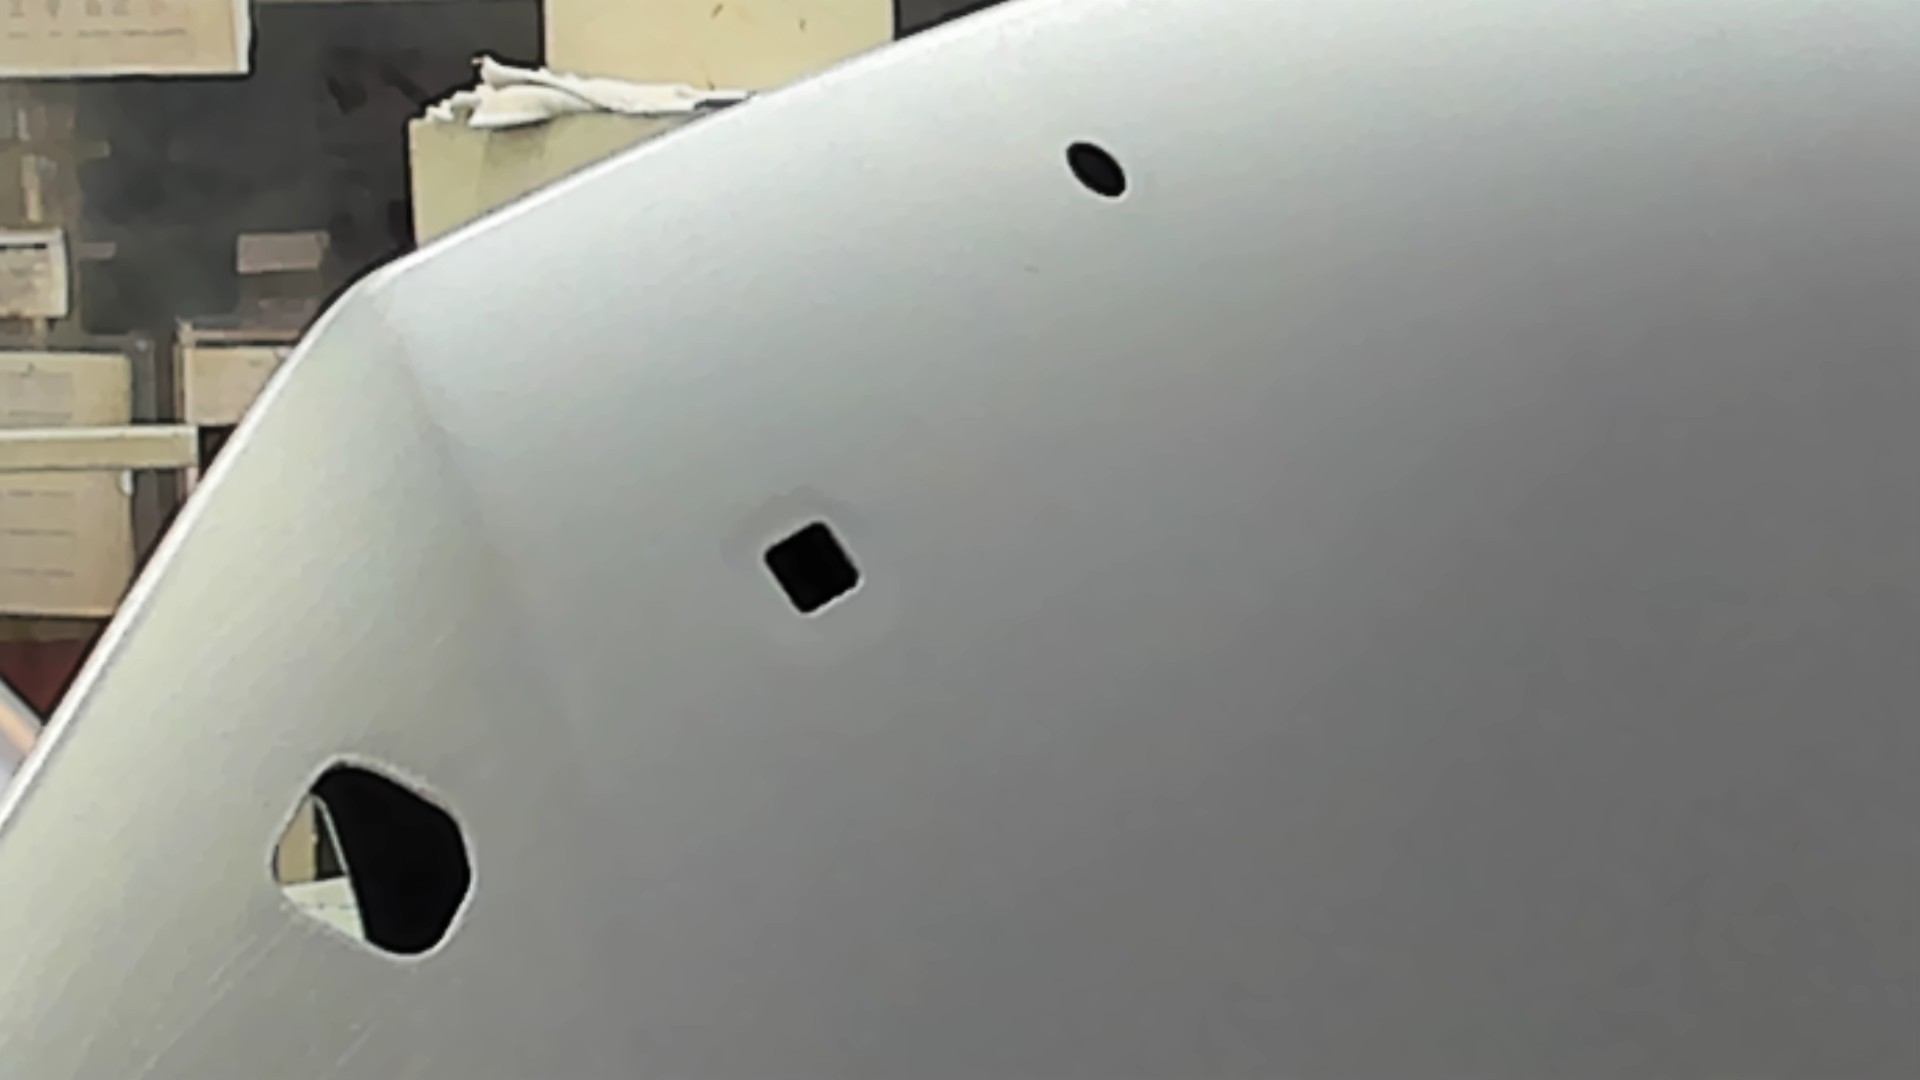chico: (1063, 137, 1131, 203)
grande: (257, 754, 487, 971)
mediano: (757, 513, 868, 620)
